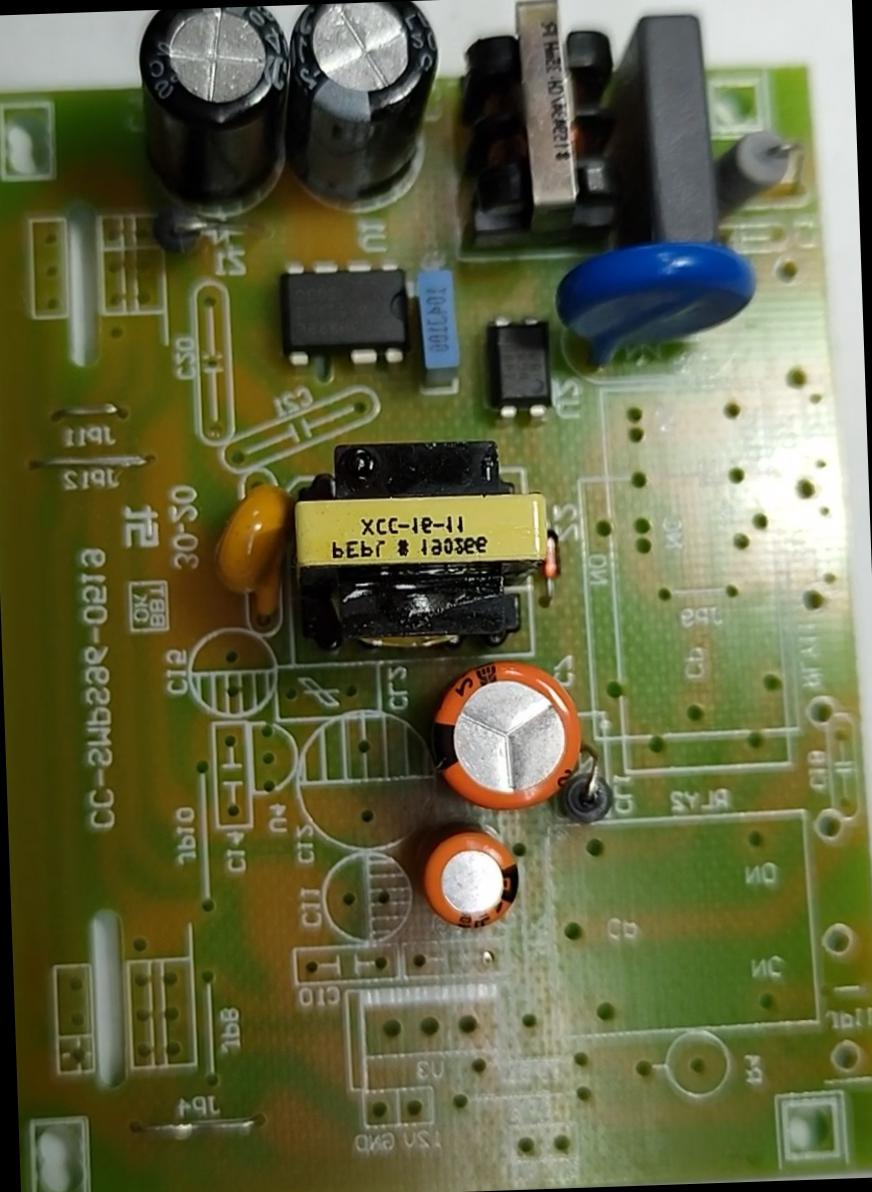Cap1: (417, 643, 597, 820)
Cap2: (406, 810, 525, 938)
Cap3: (274, 0, 453, 222)
Cap4: (131, 6, 302, 212)
MOSFET: (269, 244, 420, 378)
Mov: (539, 228, 766, 376)
Resistor: (699, 121, 805, 228)
Transformer: (274, 430, 568, 677), (439, 0, 635, 269)
